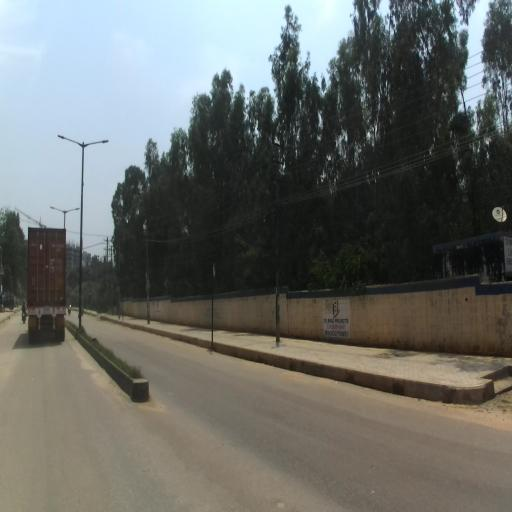street_light_0: (58, 134, 84, 149), (82, 139, 109, 151), (64, 207, 80, 216), (49, 206, 66, 214)
